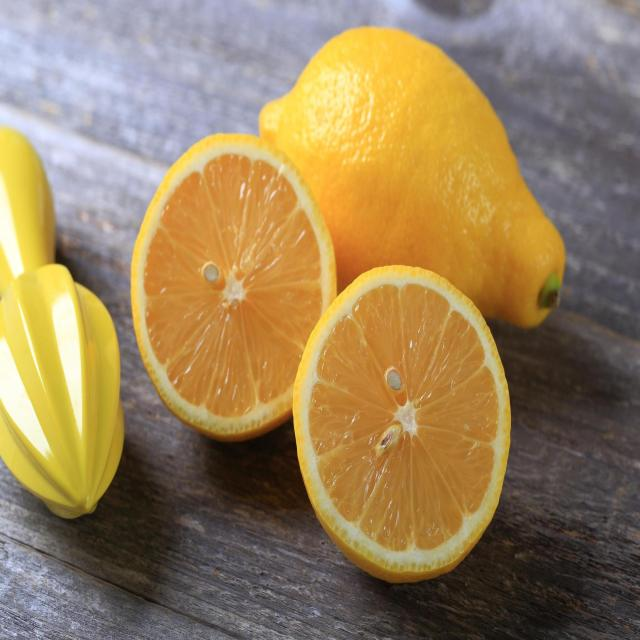lemon: (287, 256, 514, 586), (125, 122, 339, 446)
